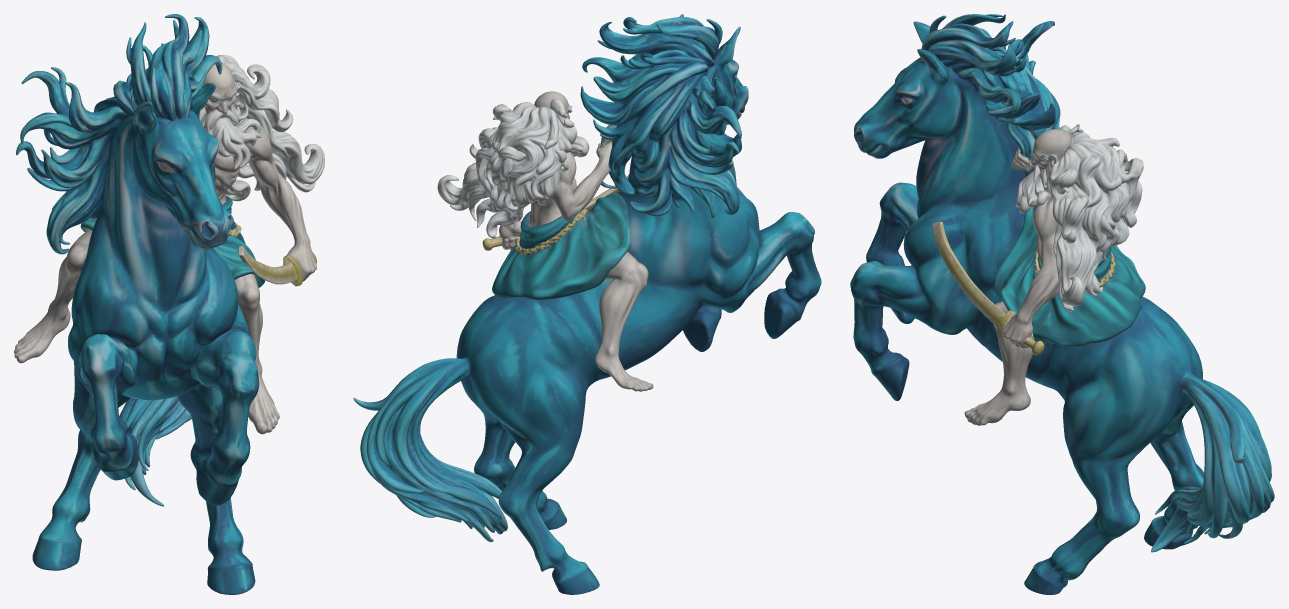
3 renders of one model, left to right at view 1: azimuth 30°, elevation 25°; view 2: azimuth 150°, elevation 25°; view 3: azimuth 270°, elevation 25°, orthographic. The views are drawn at different scales.
Parts seen in each view (by area): view 1: Meshy_AI_Stormhoof_Rider_20261120_texture001; view 2: Meshy_AI_Stormhoof_Rider_20261120_texture001; view 3: Meshy_AI_Stormhoof_Rider_20261120_texture001.
Part boxes in pixels (left/top/right/bottom): Meshy_AI_Stormhoof_Rider_20261120_texture001: left=14, top=14, right=324, bottom=594; Meshy_AI_Stormhoof_Rider_20261120_texture001: left=353, top=14, right=821, bottom=594; Meshy_AI_Stormhoof_Rider_20261120_texture001: left=850, top=14, right=1274, bottom=594.
Size of the model in its own units: 0.0283 by 0.0469 by 0.0344.
